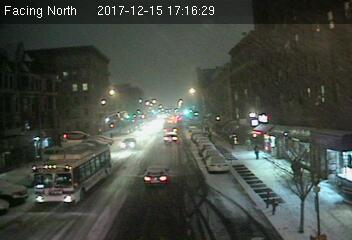bus: (33, 143, 111, 208)
car: (142, 167, 171, 184), (205, 156, 230, 172), (120, 138, 138, 149), (162, 133, 178, 144)
pedestrian: (253, 146, 258, 157)
